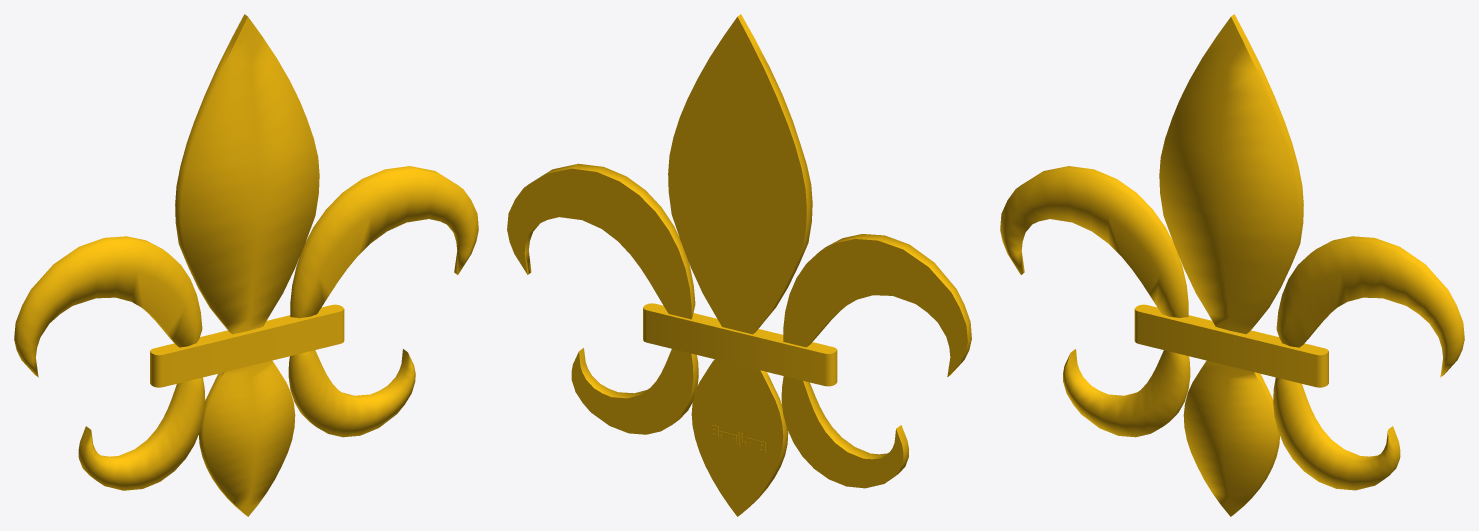
Rendered from fleur_de_lis.fbx.
3 views of the same model, side by side, from view 1: azimuth 30°, elevation 25°; view 2: azimuth 150°, elevation 25°; view 3: azimuth 330°, elevation 25° (orthographic).
Visible parts, largest first — view 1: Circle.2639; view 2: Circle.2639; view 3: Circle.2639.
Boxes of the visible parts, left/top/right/bottom form: Circle.2639: left=14, top=14, right=478, bottom=516; Circle.2639: left=507, top=14, right=971, bottom=516; Circle.2639: left=1000, top=14, right=1464, bottom=516.
Bounding box in the file's own units: 230 × 239 × 14.02.
1 material, 1 textured.
